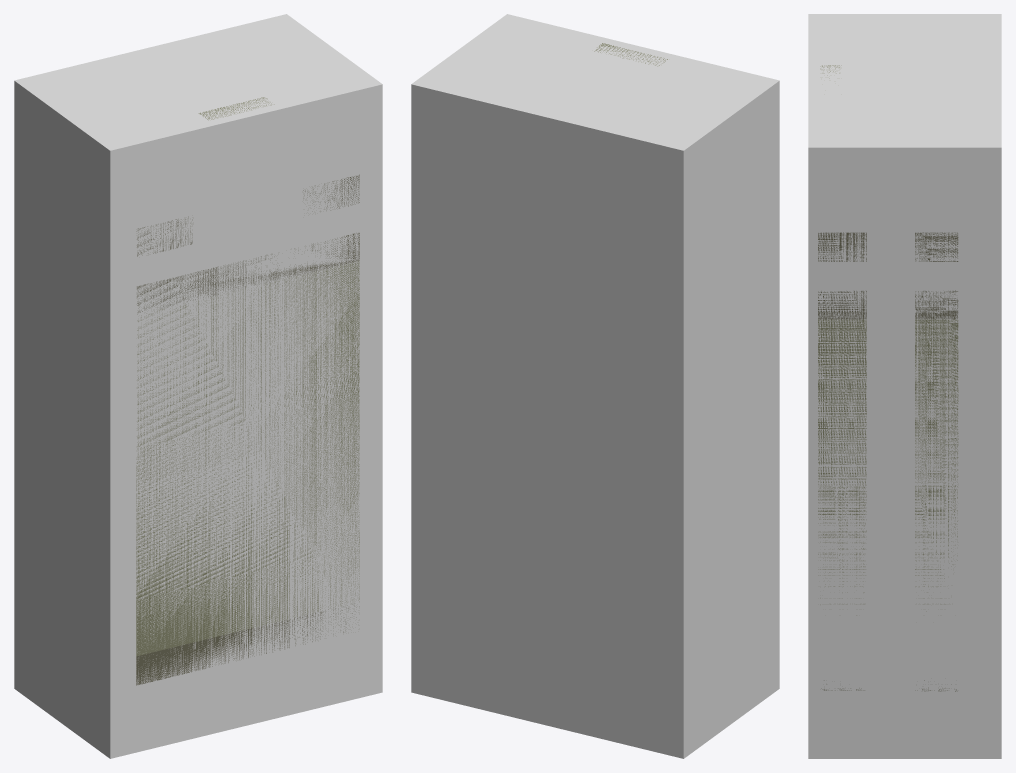
The model's file is CabinLuggage.002.fbx.
3 views of the same model, side by side, from view 1: azimuth 30°, elevation 25°; view 2: azimuth 150°, elevation 25°; view 3: azimuth 270°, elevation 25° (orthographic).
Visible parts, largest first — view 1: CabinLuggage.002_COL0, CabinLuggage.002_LOD0; view 2: CabinLuggage.002_COL0; view 3: CabinLuggage.002_COL0, CabinLuggage.002_LOD0.
Part boxes in pixels (x1,y1,x2,y2): CabinLuggage.002_COL0: [14, 14, 382, 758]; CabinLuggage.002_LOD0: [136, 97, 359, 685]; CabinLuggage.002_COL0: [411, 14, 779, 758]; CabinLuggage.002_COL0: [808, 14, 1001, 758]; CabinLuggage.002_LOD0: [818, 65, 958, 691].
Size of what is drawn, in the model's own units: 0.8372 by 1.78 by 0.5111.
